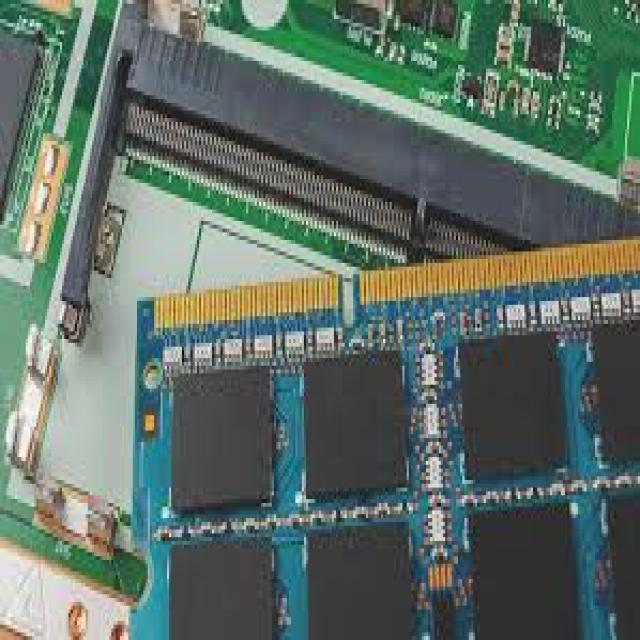Ram: (105, 217, 640, 640)
